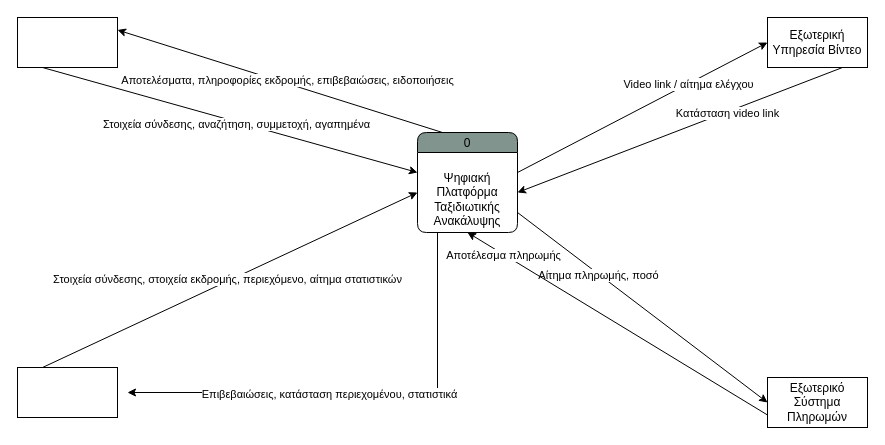
Image size: 885x445. Some labels were removed from this diagram. Each missing label, with the centre of its shape:
"Δημιουργός Εκδρομών" belongs at point (67, 392).
"Εκδρομέας" belongs at point (67, 42).
